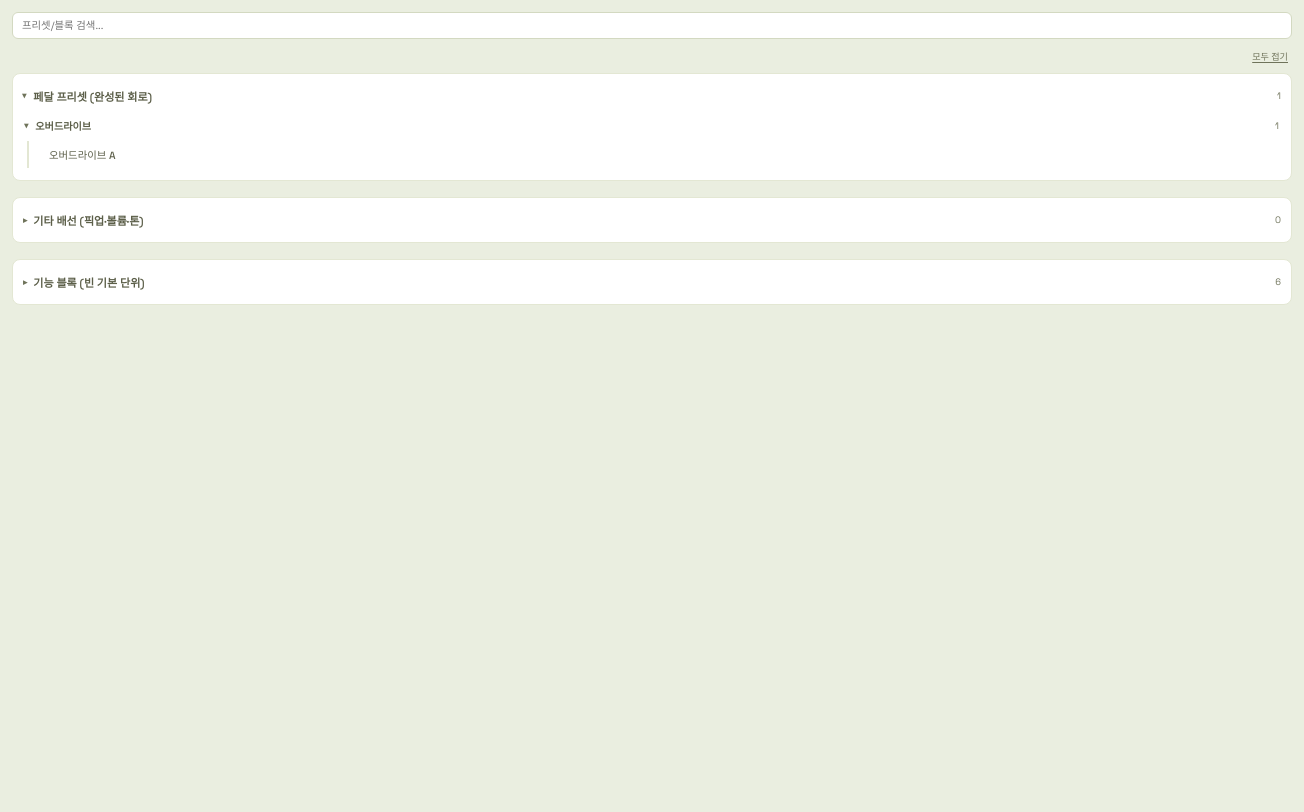
Test: LibraryExplorer › expanding the block section reveals its category groups and items
Click the button "▸ 기능 블록 (빈 기본 단위) 6" at (89, 283), box [19,266,1285,298]
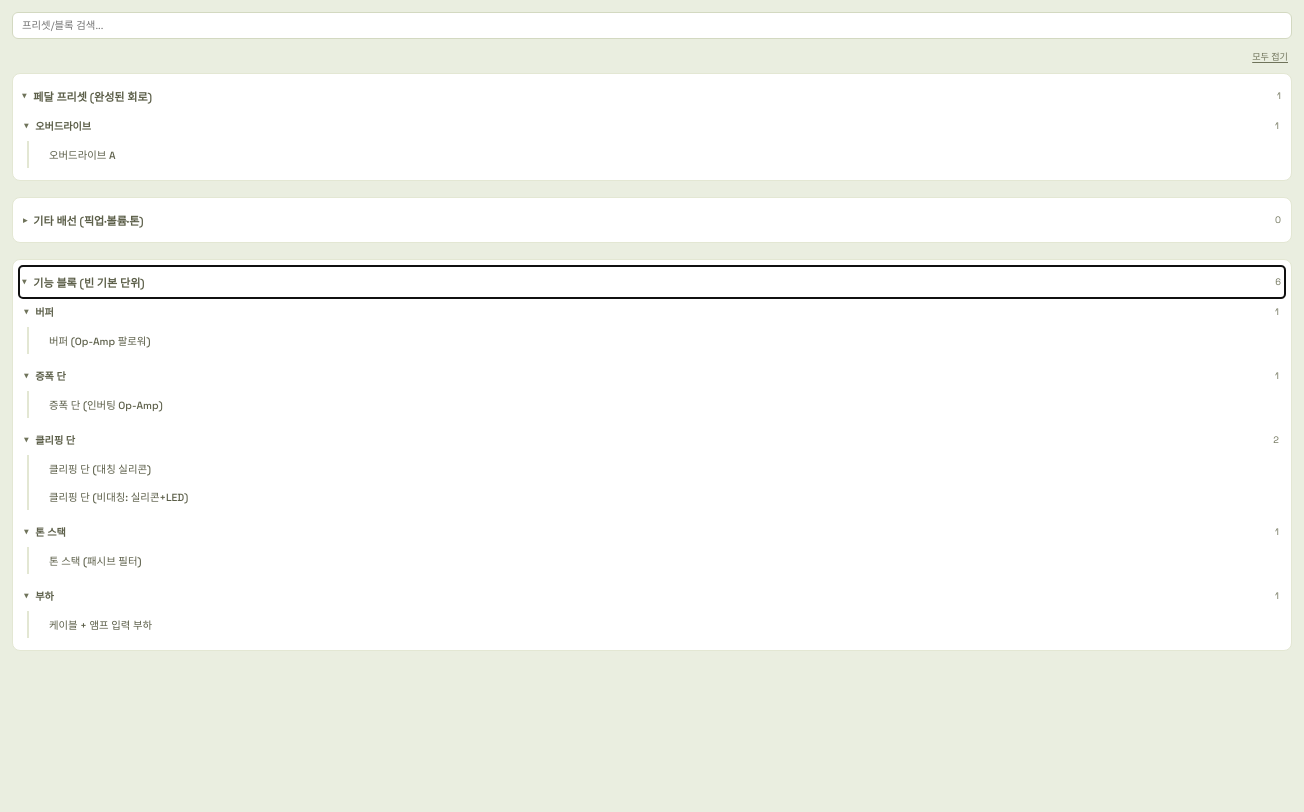
Result: the text "버퍼 (Op-Amp 팔로워)" is shown at [49,335,150,348]
